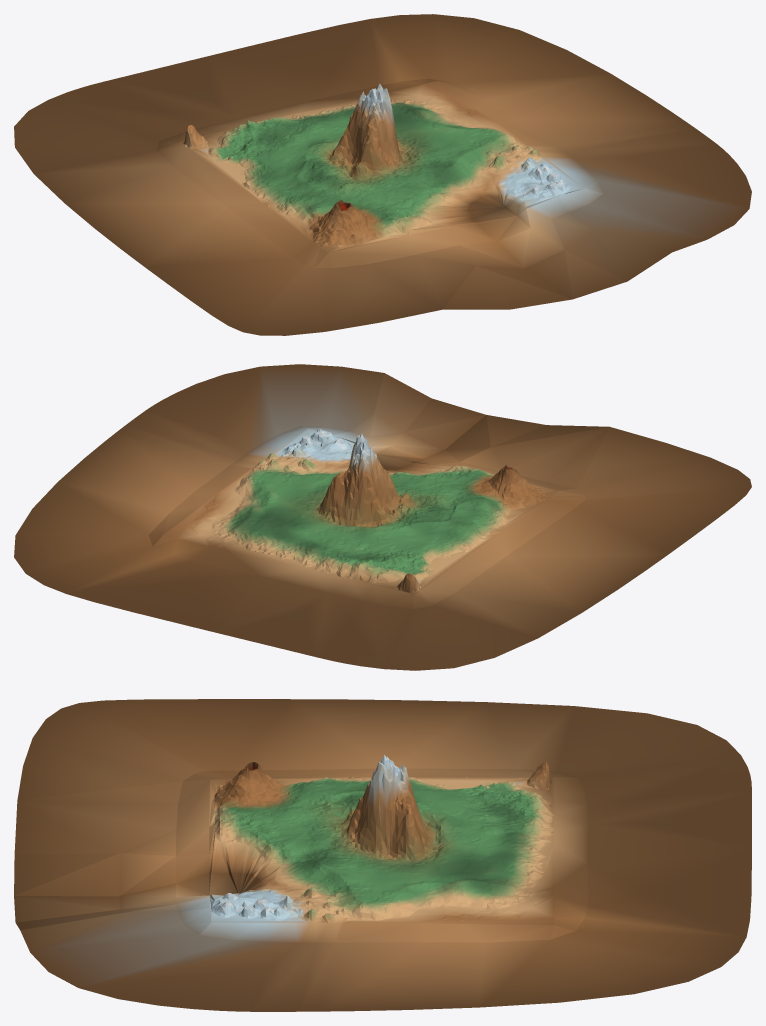
The model's file is Terreno.fbx.
3 renders of one model, top to bottom at view 1: azimuth 30°, elevation 25°; view 2: azimuth 150°, elevation 25°; view 3: azimuth 270°, elevation 25°, orthographic. The views are drawn at different scales.
Visible parts, largest first — view 1: Terrain; view 2: Terrain; view 3: Terrain.
Boxes of the visible parts, <box> form: Terrain: <box>14,14,751,335</box>; Terrain: <box>14,364,751,670</box>; Terrain: <box>14,699,751,1011</box>.
Bounding box in the file's own units: 1073 × 200 × 1070.
